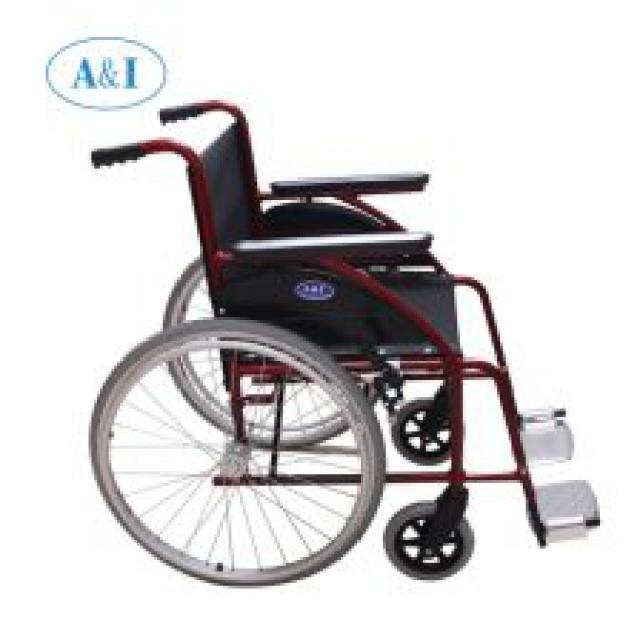wheelchairs: (83, 99, 598, 587)
